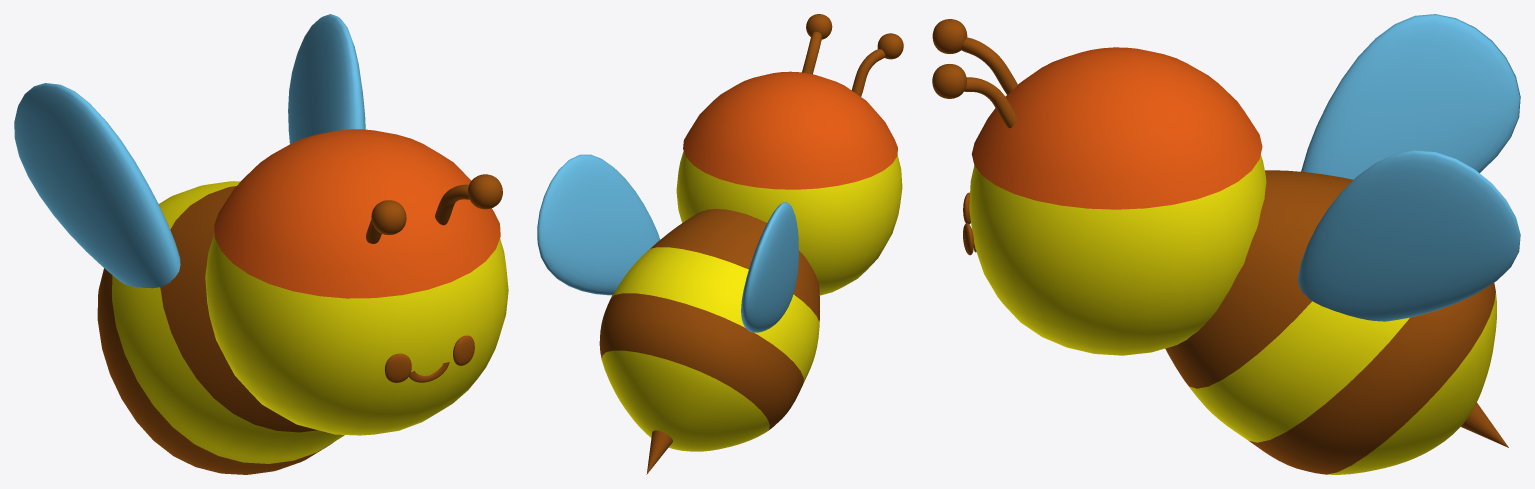
File: mitsubachi_eye_fixed.glb
3 renders of one model, left to right at view 1: azimuth 30°, elevation 25°; view 2: azimuth 150°, elevation 25°; view 3: azimuth 270°, elevation 25°, orthographic. The views are drawn at different scales.
Parts seen in each view (by area): view 1: Cube, Sphere, Cube.003, Cube.004, Cube.006, Cube.002, Cube.005; view 2: Cube.003, Sphere, Cube.004, Cube, Cube.005, Cube.006, Cone; view 3: Cube.004, Cube.003, Cube, Sphere, Cube.005, Cube.006, Cone.
Part boxes in pixels (x1,y1,x2,y2): Cube: (205,233,508,435); Sphere: (214,129,500,298); Cube.003: (97,181,344,474); Cube.004: (14,14,365,288); Cube.006: (371,174,502,234); Cube.002: (384,335,474,382); Cube.005: (366,184,469,243); Cube.003: (599,209,819,451); Sphere: (683,71,897,189); Cube.004: (537,154,798,332); Cube: (676,151,902,295); Cube.005: (802,31,885,96); Cube.006: (806,14,903,59); Cone: (646,430,672,474); Cube.004: (1298,14,1520,321); Cube.003: (1165,170,1496,474); Cube: (969,155,1266,355); Sphere: (971,47,1262,209); Cube.005: (961,37,1017,128); Cube.006: (932,19,967,98); Cone: (1461,402,1508,447).
Size of the model in its own units: 0.9654 by 1.29 by 1.65.
